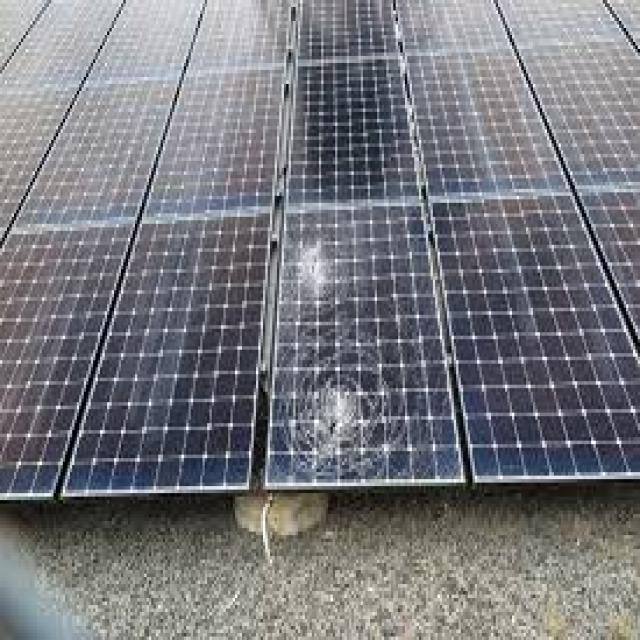faulty: (281, 200, 459, 502), (105, 216, 268, 491)
